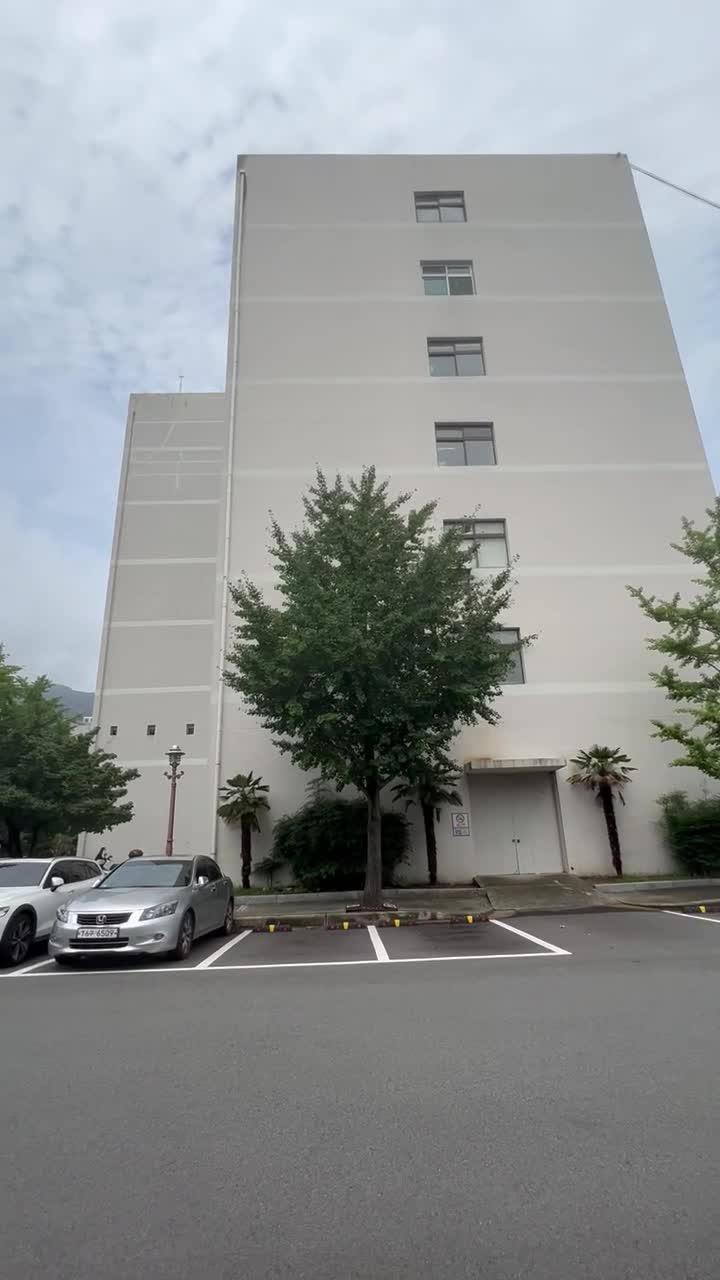building: (226, 140, 698, 508)
